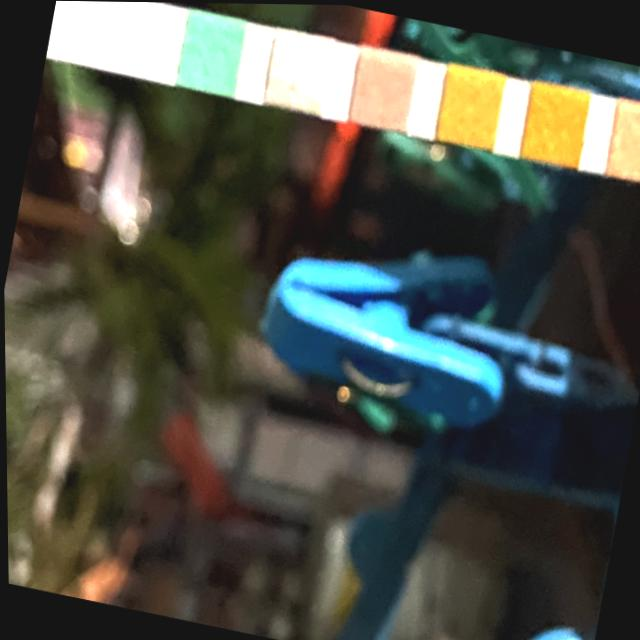Bilirubin: (266, 29, 333, 108)
Blood: (522, 83, 590, 163)
Glucose: (177, 8, 247, 95)
Ketone: (350, 47, 416, 127)
SpGravity: (439, 65, 504, 144)
pH: (606, 98, 640, 178)
